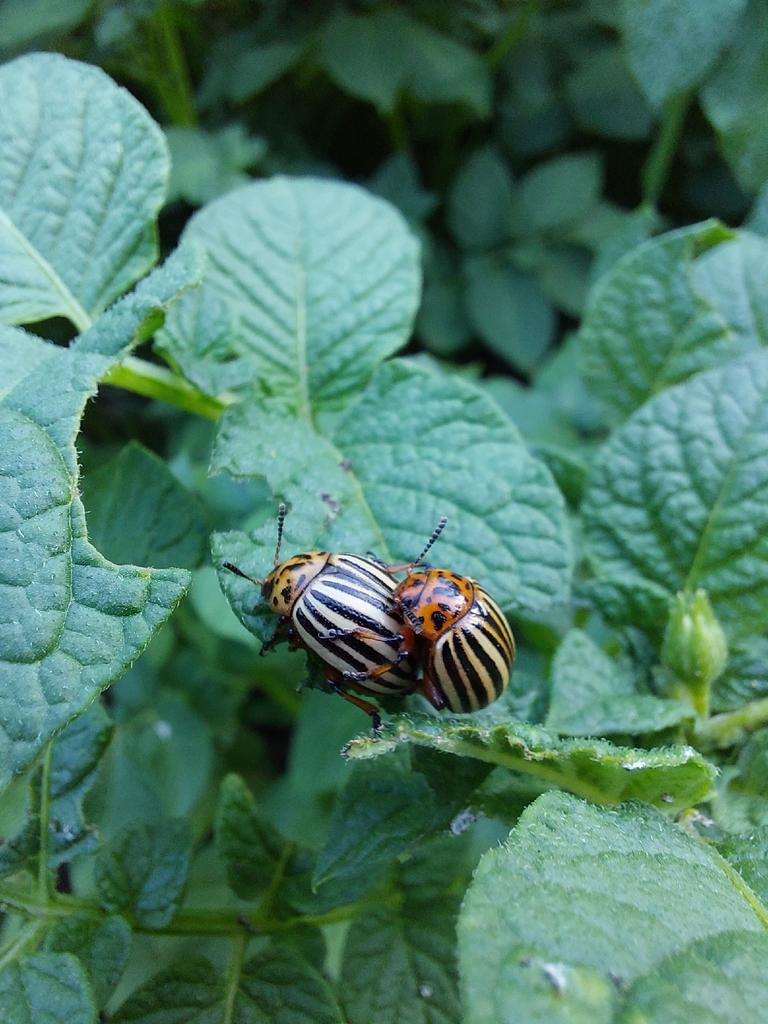potato_beetle: (191, 476, 451, 756), (364, 500, 544, 742)
